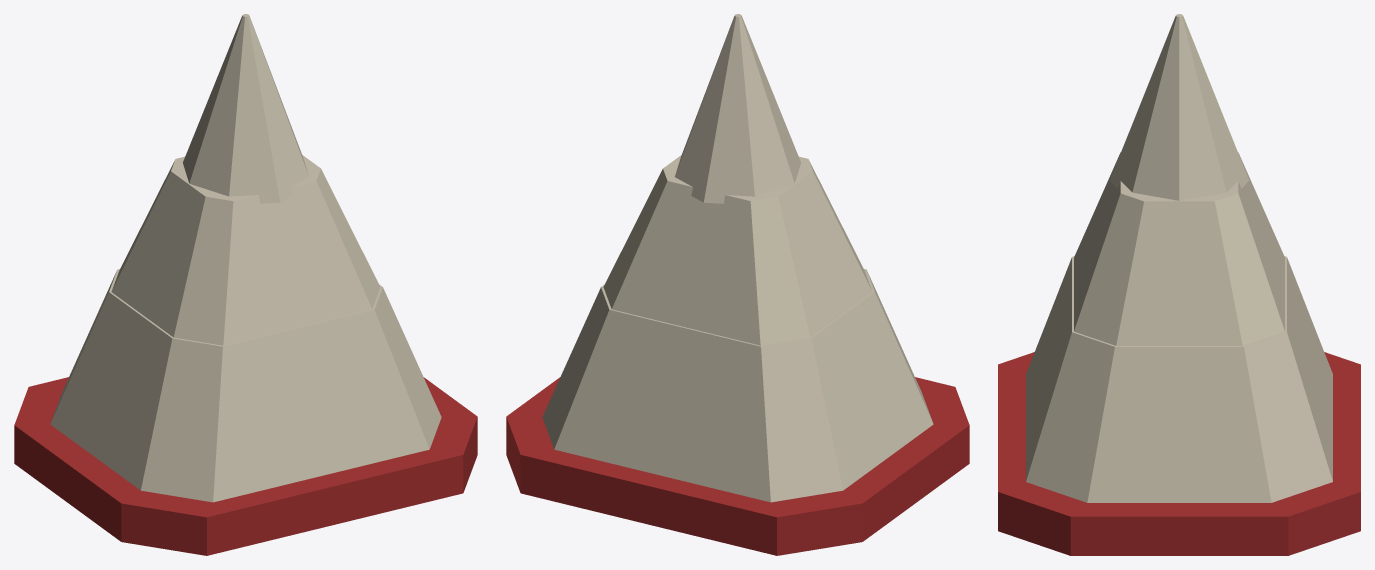
Rendered from sheetghost__dunce.glb.
3 renders of one model, left to right at view 1: azimuth 30°, elevation 25°; view 2: azimuth 150°, elevation 25°; view 3: azimuth 270°, elevation 25°, orthographic.
Parts seen in each view (by area): view 1: Dunce Cone; view 2: Dunce Cone; view 3: Dunce Cone.
Part boxes in pixels (left/top/right/bottom): Dunce Cone: left=14, top=14, right=477, bottom=555; Dunce Cone: left=506, top=14, right=969, bottom=555; Dunce Cone: left=998, top=14, right=1360, bottom=555.
Size of the model in its own units: 0.594 by 0.7072 by 0.5148.
